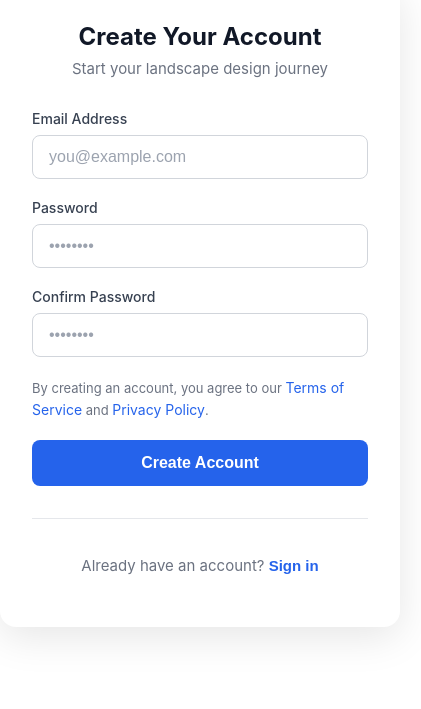
RegisterForm › should show password mismatch error
This screenshot has width=421, height=709.
Type "test@example.com" into the field labelled "Email Address".
click(200, 157); type("test@example.com")  # box [32,135,368,179]
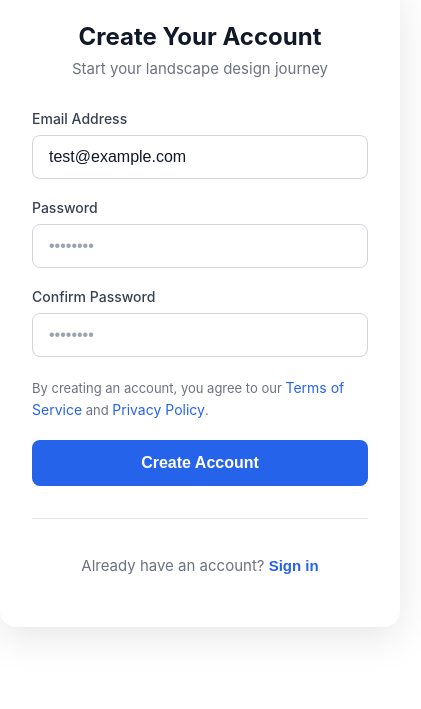
Type "ValidPass123" into the password field labelled "Password".
click(200, 246); type("ValidPass123")  # box [32,224,368,268]
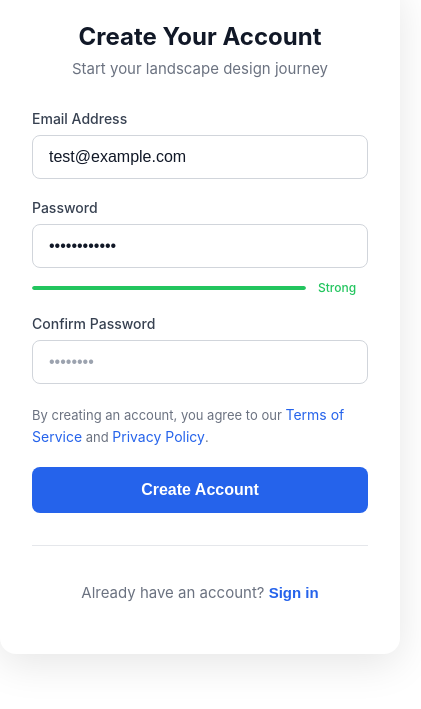
Type "DifferentPass123" into the password field labelled "Confirm Password".
click(200, 362); type("DifferentPass123")  # box [32,340,368,384]
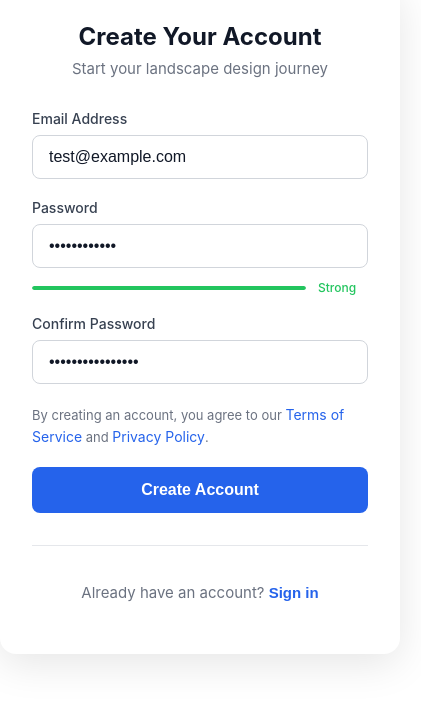
Click the button "Create Account".
click(200, 490)  # box [32,467,368,513]
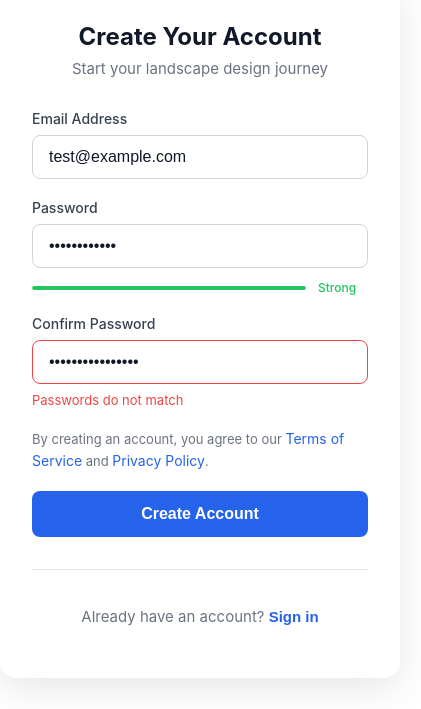
Result: the text "Passwords do not match" is shown at [32,392,183,408]
